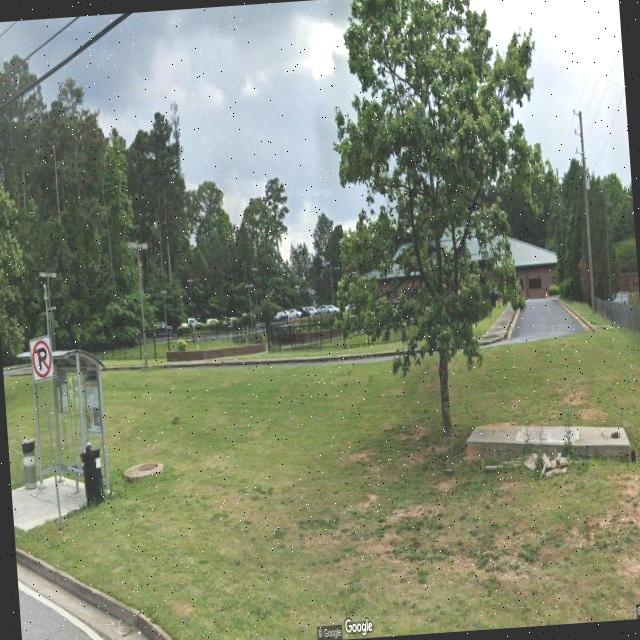seating: (66, 462, 85, 495)
shelter: (15, 345, 114, 505)
trash_can: (80, 444, 104, 506), (20, 436, 39, 491)
